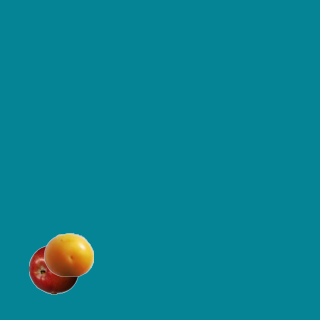Apple Braeburn: (28, 244, 78, 294)
Cherry Wax Yellow: (43, 229, 93, 279)
